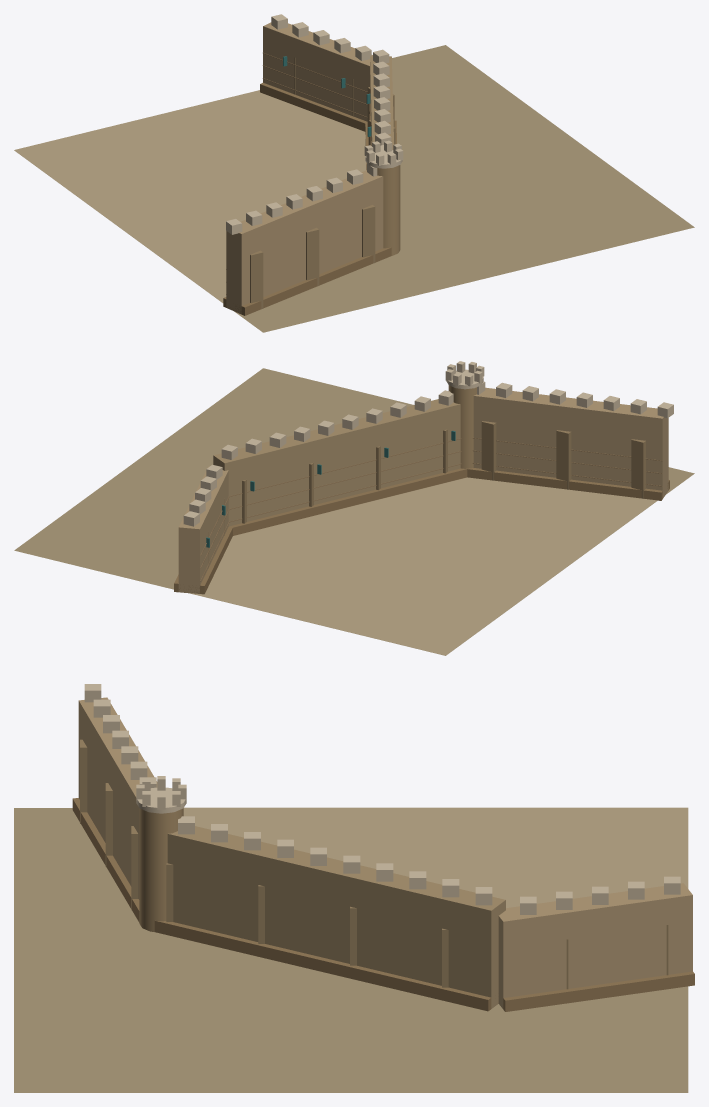
The model's file is city-boundary-1_1.glb.
3 renders of one model, top to bottom at view 1: azimuth 30°, elevation 25°; view 2: azimuth 150°, elevation 25°; view 3: azimuth 270°, elevation 25°, orthographic. The views are drawn at different scales.
Visible parts, largest first — view 1: city-boundary-1_1; view 2: city-boundary-1_1; view 3: city-boundary-1_1.
Boxes of the visible parts, x1,y1,x2,y2 form: city-boundary-1_1: (14, 14, 694, 332); city-boundary-1_1: (14, 361, 694, 655); city-boundary-1_1: (14, 684, 694, 1092).
Bounding box in the file's own units: 32.37 × 7.19 × 32.32.
